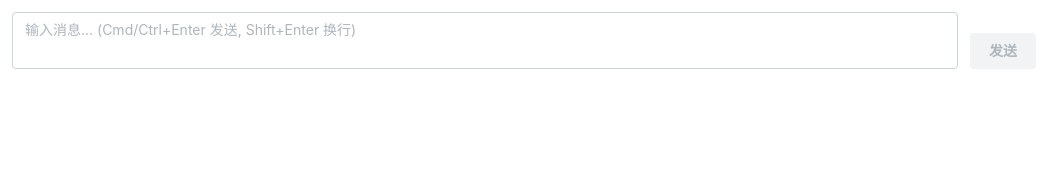
Test: MessageInput › sends text on click and clears
Type "hello" into the text box with placeholder "输入消息… (Cmd/Ctrl+Enter 发送, Shift+Enter 换行)" at (485, 40), box x1=12 y1=12 x2=958 y2=69
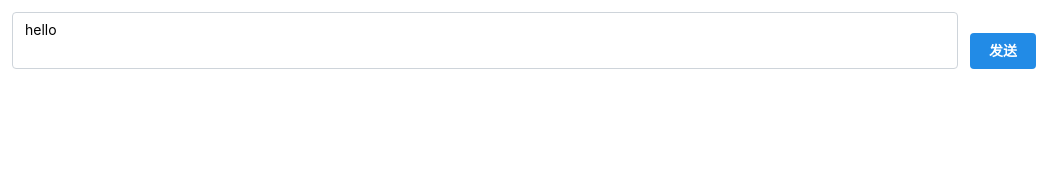
Click the button "发送" at (1003, 51), box x1=970 y1=33 x2=1036 y2=69
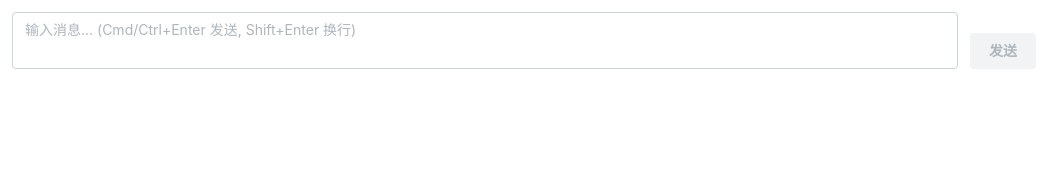
Result: the text box with placeholder "输入消息… (Cmd/Ctrl+Enter 发送, Shift+Enter 换行)" is empty at x1=12 y1=12 x2=958 y2=69
